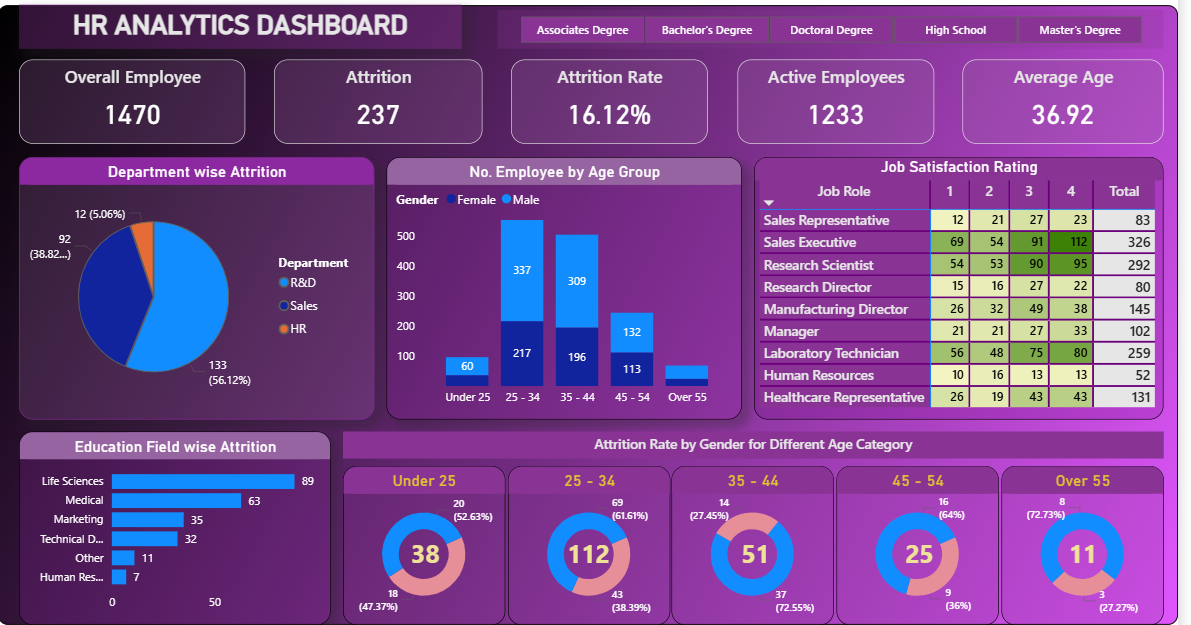

Layout of this report page (visuals, bound fields, positions):
{"tool":"powerbi","page":{"name":"HR ANALYTICS","canvas":[1280,720],"ordinal":0},"visuals":[{"type":"card","title":"Overall Employee","fields":{"Values":["Sum(Sheet1.Employee Count)"]},"box":[22.8,83,245.6,91.1],"z":0},{"type":"card","title":"Attrition","fields":{"Values":["Sum(Sheet1.Attrition count)"]},"box":[299.7,83,226.1,91.1],"z":1000},{"type":"card","title":"Attrition Rate","fields":{"Values":["Sheet1.Attrition Rate"]},"box":[557.1,83,213.1,91.1],"z":2000},{"type":"card","title":"Active Employees","fields":{"Values":["Sheet1.Active Employees"]},"box":[801.5,83,213.1,91.1],"z":3000},{"type":"card","title":"Average Age","fields":{"Values":["Avg(Sheet1.Age)"]},"box":[1045.9,83,218,91.1],"z":4000},{"type":"pieChart","title":"Department wise Attrition","fields":{"Category":["Sheet1.Department"],"Y":["Sum(Sheet1.Attrition count)"]},"box":[22.8,188.7,385.5,284.6],"z":5000},{"type":"columnChart","title":"No. Employee by Age Group","fields":{"Category":["Sheet1.CF_age band"],"Y":["Sum(Sheet1.Employee Count)"],"Series":["Sheet1.Gender"]},"box":[421.3,188.7,385.5,284.6],"z":6000},{"type":"textbox","box":[22.8,22.8,479.8,48.8],"z":7000},{"type":"pivotTable","title":"Job Satisfaction Rating","fields":{"Rows":["Sheet1.Job Role"],"Columns":["Sheet1.Job Satisfaction"],"Values":["Sum(Sheet1.Employee Count)"]},"box":[819.8,188.7,444,284.6],"z":8000},{"type":"barChart","title":"Education Field wise Attrition","fields":{"Category":["Sheet1.Education Field"],"Y":["Sum(Sheet1.Attrition count)"]},"box":[22.8,486.3,338.3,209.8],"z":9000},{"type":"donutChart","title":"Under 25","fields":{"Category":["Sheet1.Gender"],"Y":["Sum(Sheet1.Attrition count)"],"Series":["Sheet1.CF_age band"]},"box":[374.1,523.7,175.7,172.4],"z":10000},{"type":"textbox","box":[374.1,486.3,889.7,29],"z":11000},{"type":"donutChart","title":"Over 55","fields":{"Category":["Sheet1.Gender"],"Y":["Sum(Sheet1.Attrition count)"],"Series":["Sheet1.CF_age band"]},"box":[1088.2,523.7,175.7,172.4],"z":12000},{"type":"donutChart","title":"45 - 54","fields":{"Category":["Sheet1.Gender"],"Y":["Sum(Sheet1.Attrition count)"],"Series":["Sheet1.CF_age band"]},"box":[909.6,523.7,175.7,172.4],"z":13000},{"type":"donutChart","title":"35 - 44","fields":{"Category":["Sheet1.Gender"],"Y":["Sum(Sheet1.Attrition count)"],"Series":["Sheet1.CF_age band"]},"box":[731.1,523.7,175.7,172.4],"z":14000},{"type":"donutChart","title":"25 - 34","fields":{"Category":["Sheet1.Gender"],"Y":["Sum(Sheet1.Attrition count)"],"Series":["Sheet1.CF_age band"]},"box":[552.6,523.7,175.7,172.4],"z":15000},{"type":"card","fields":{"Values":["Sum(Sheet1.Attrition count)"]},"box":[437.5,591.8,50.8,54.7],"z":16000},{"type":"card","fields":{"Values":["Sum(Sheet1.Attrition count)"]},"box":[1146.5,591.8,58.6,54.7],"z":17000},{"type":"card","fields":{"Values":["Sum(Sheet1.Attrition count)"]},"box":[968.8,591.8,58.6,54.7],"z":18000},{"type":"card","fields":{"Values":["Sum(Sheet1.Attrition count)"]},"box":[789.1,591.8,64.5,54.7],"z":19000},{"type":"card","fields":{"Values":["Sum(Sheet1.Attrition count)"]},"box":[611.4,591.8,56.6,54.7],"z":20000},{"type":"slicer","fields":{"Values":["Sheet1.Education"]},"box":[541.6,29.3,722.2,42.3],"z":21000}]}

Visuals, with their boxes on the page's 1280x720 design canvas (x1, y1, x2, y2). These are canvas units, not pixel positions in the 1191x625 screenshot, which may show the page scaled, cropped or inside an application window:
"Overall Employee" card: left=23, top=83, right=268, bottom=174
"Attrition" card: left=300, top=83, right=526, bottom=174
"Attrition Rate" card: left=557, top=83, right=770, bottom=174
"Active Employees" card: left=802, top=83, right=1015, bottom=174
"Average Age" card: left=1046, top=83, right=1264, bottom=174
"Department wise Attrition" pieChart: left=23, top=189, right=408, bottom=473
"No. Employee by Age Group" columnChart: left=421, top=189, right=807, bottom=473
textbox: left=23, top=23, right=503, bottom=72
"Job Satisfaction Rating" pivotTable: left=820, top=189, right=1264, bottom=473
"Education Field wise Attrition" barChart: left=23, top=486, right=361, bottom=696
"Under 25" donutChart: left=374, top=524, right=550, bottom=696
textbox: left=374, top=486, right=1264, bottom=515
"Over 55" donutChart: left=1088, top=524, right=1264, bottom=696
"45 - 54" donutChart: left=910, top=524, right=1085, bottom=696
"35 - 44" donutChart: left=731, top=524, right=907, bottom=696
"25 - 34" donutChart: left=553, top=524, right=728, bottom=696
card - Sum(Sheet1.Attrition count): left=438, top=592, right=488, bottom=646
card - Sum(Sheet1.Attrition count): left=1146, top=592, right=1205, bottom=646
card - Sum(Sheet1.Attrition count): left=969, top=592, right=1027, bottom=646
card - Sum(Sheet1.Attrition count): left=789, top=592, right=854, bottom=646
card - Sum(Sheet1.Attrition count): left=611, top=592, right=668, bottom=646
slicer - Sheet1.Education: left=542, top=29, right=1264, bottom=72
